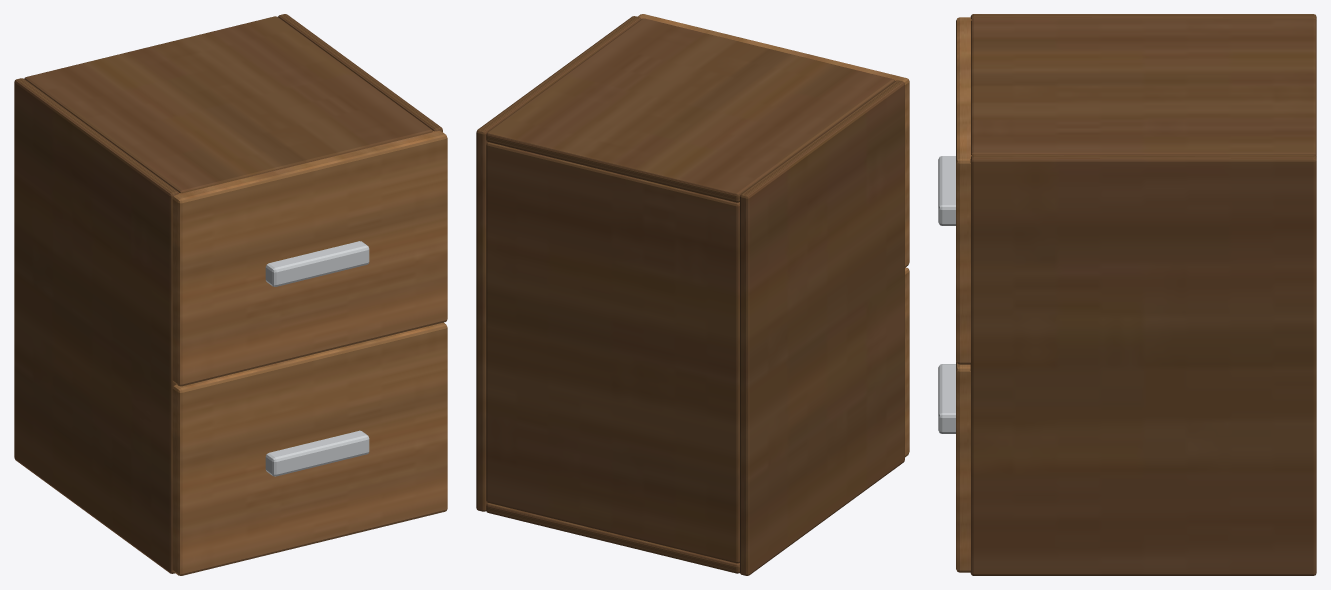
Rendered from file_cabinet.glb.
3 views of the same model, side by side, from view 1: azimuth 30°, elevation 25°; view 2: azimuth 150°, elevation 25°; view 3: azimuth 270°, elevation 25° (orthographic). The views are drawn at different scales.
Parts seen in each view (by area): view 1: fc_body, part_drawer, part_drawer2; view 2: fc_body, part_drawer, part_drawer2; view 3: fc_body, part_drawer, part_drawer2.
Boxes of the visible parts, bbox=[...] form: fc_body: bbox=[14, 14, 442, 573]; part_drawer: bbox=[172, 131, 447, 386]; part_drawer2: bbox=[172, 322, 447, 575]; fc_body: bbox=[476, 16, 904, 575]; part_drawer: bbox=[638, 14, 909, 267]; part_drawer2: bbox=[905, 267, 909, 457]; fc_body: bbox=[970, 14, 1316, 575]; part_drawer: bbox=[938, 17, 971, 364]; part_drawer2: bbox=[938, 361, 970, 572].
Size of the model in its own units: 0.45 by 0.6 by 0.492.
4 materials, 3 textured.
